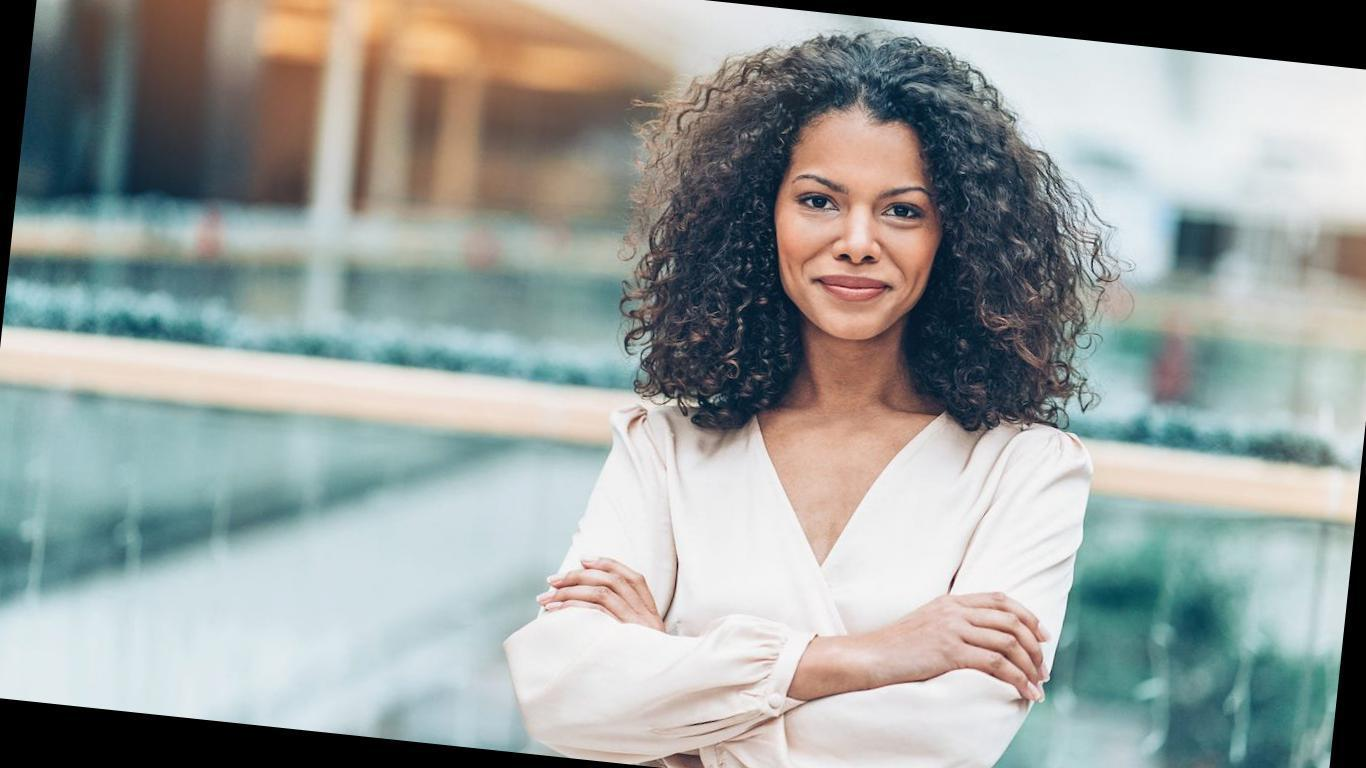Sober: (781, 124, 933, 322)
